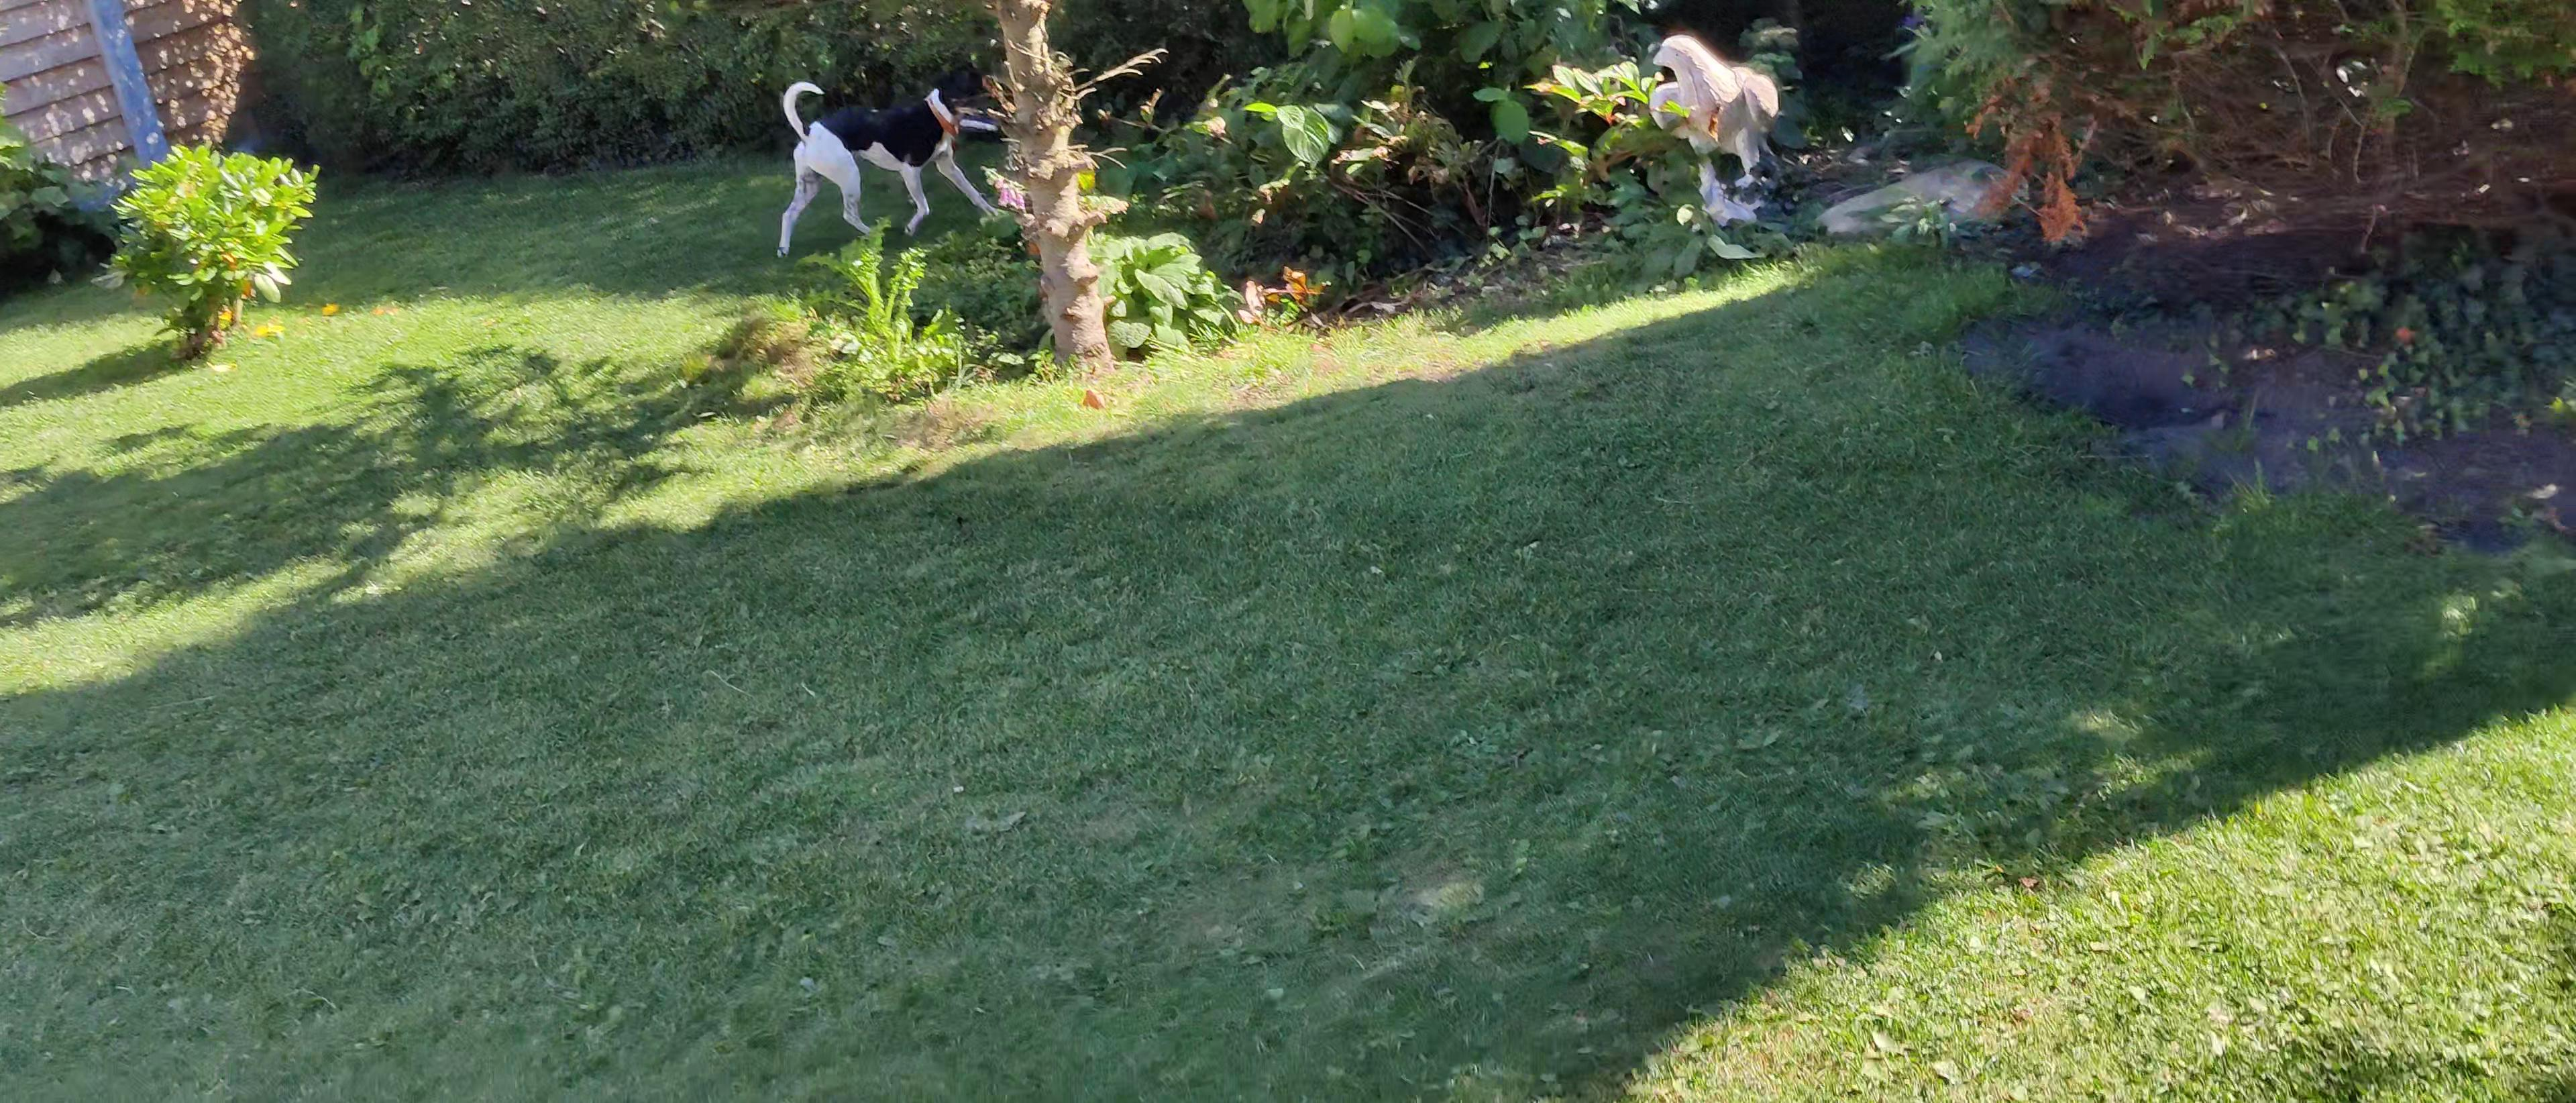Dog: (772, 59, 1007, 260)
